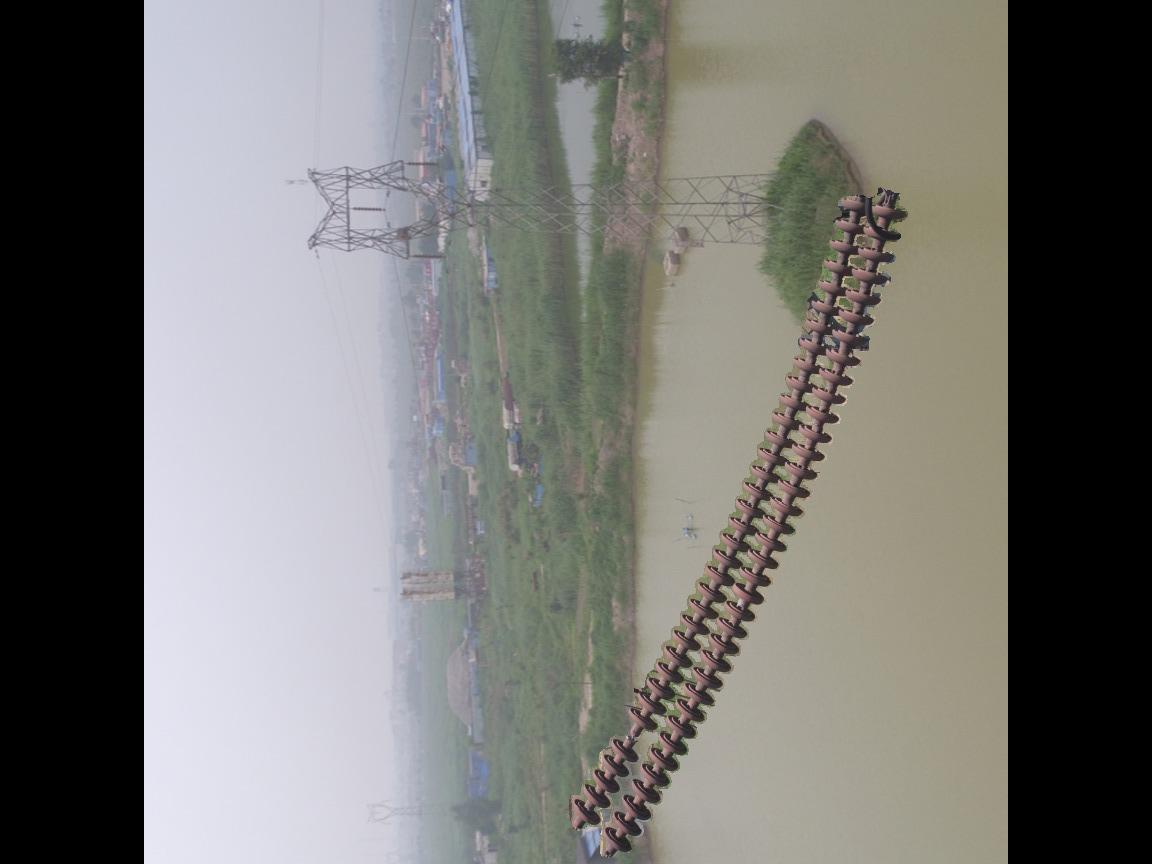insulator: (564, 187, 908, 863)
insulator_stringdrop: (608, 703, 659, 765)
